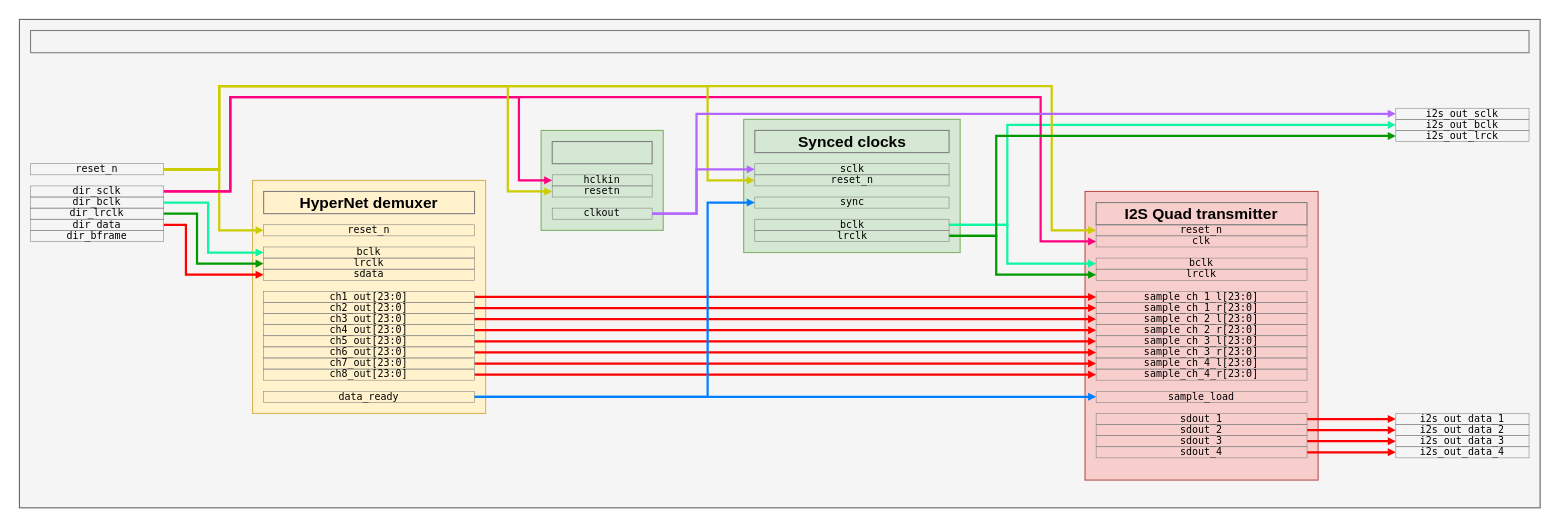
Some shapes in this 1560 by 527 pixel diagram are drawn without their labels. The shapes that lost their labels are listed below. From the top down, each one's centre as x and y in pixels, then its label:
At point 779,41: "HyperNet receiver".
At point 601,152: "CLKDIV4".
